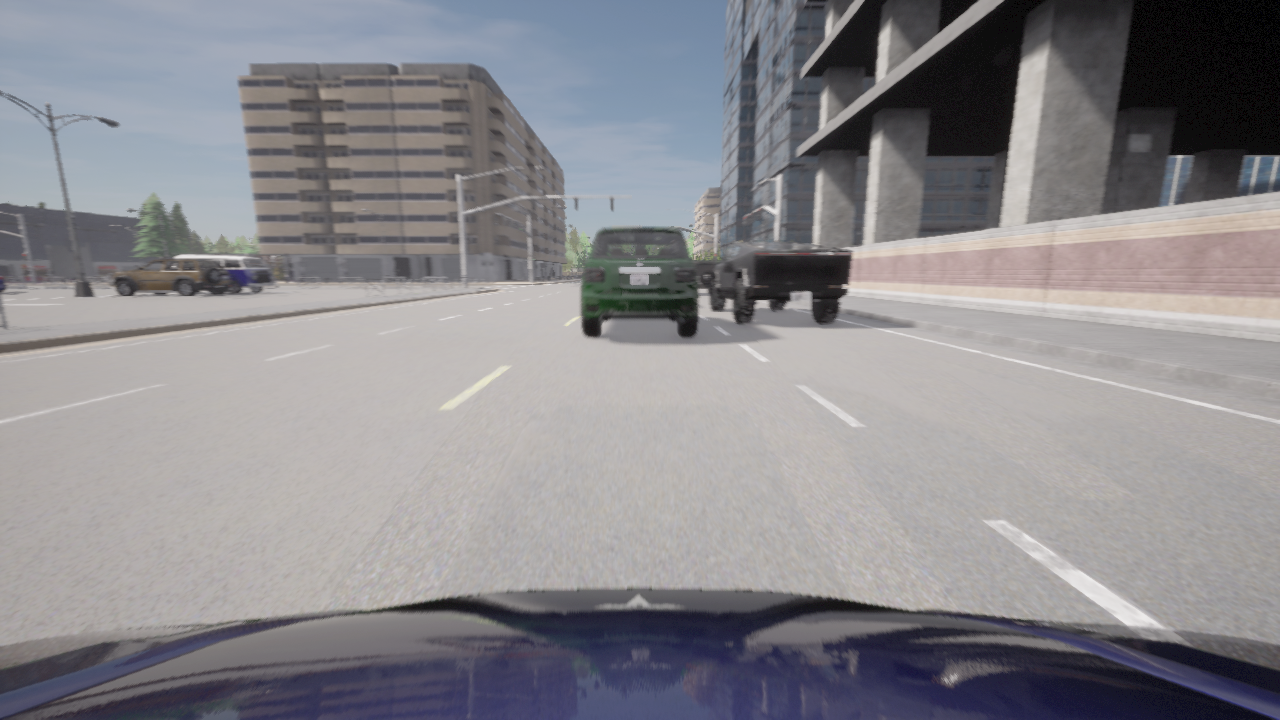cyclist: (0, 588, 1279, 719), (581, 226, 698, 336), (710, 241, 852, 323), (108, 257, 233, 296), (177, 255, 274, 293), (693, 261, 716, 293)
